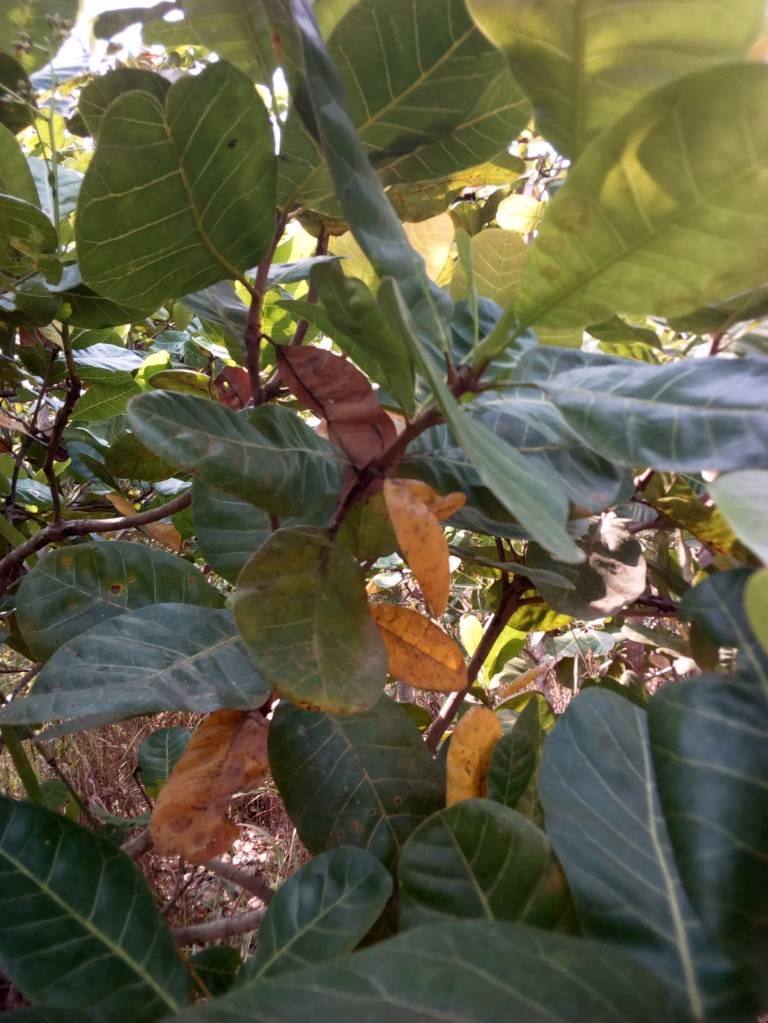Alternariose: (225, 525, 388, 717), (380, 474, 465, 617), (375, 605, 471, 696)
